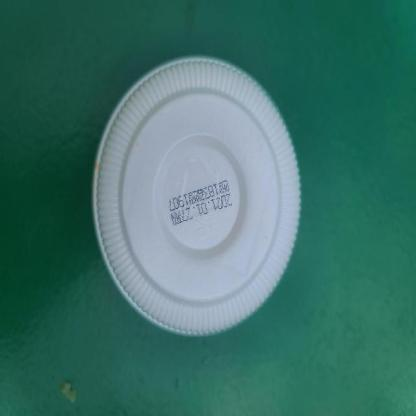Glass Cup: (92, 54, 302, 338), (93, 57, 301, 335)
